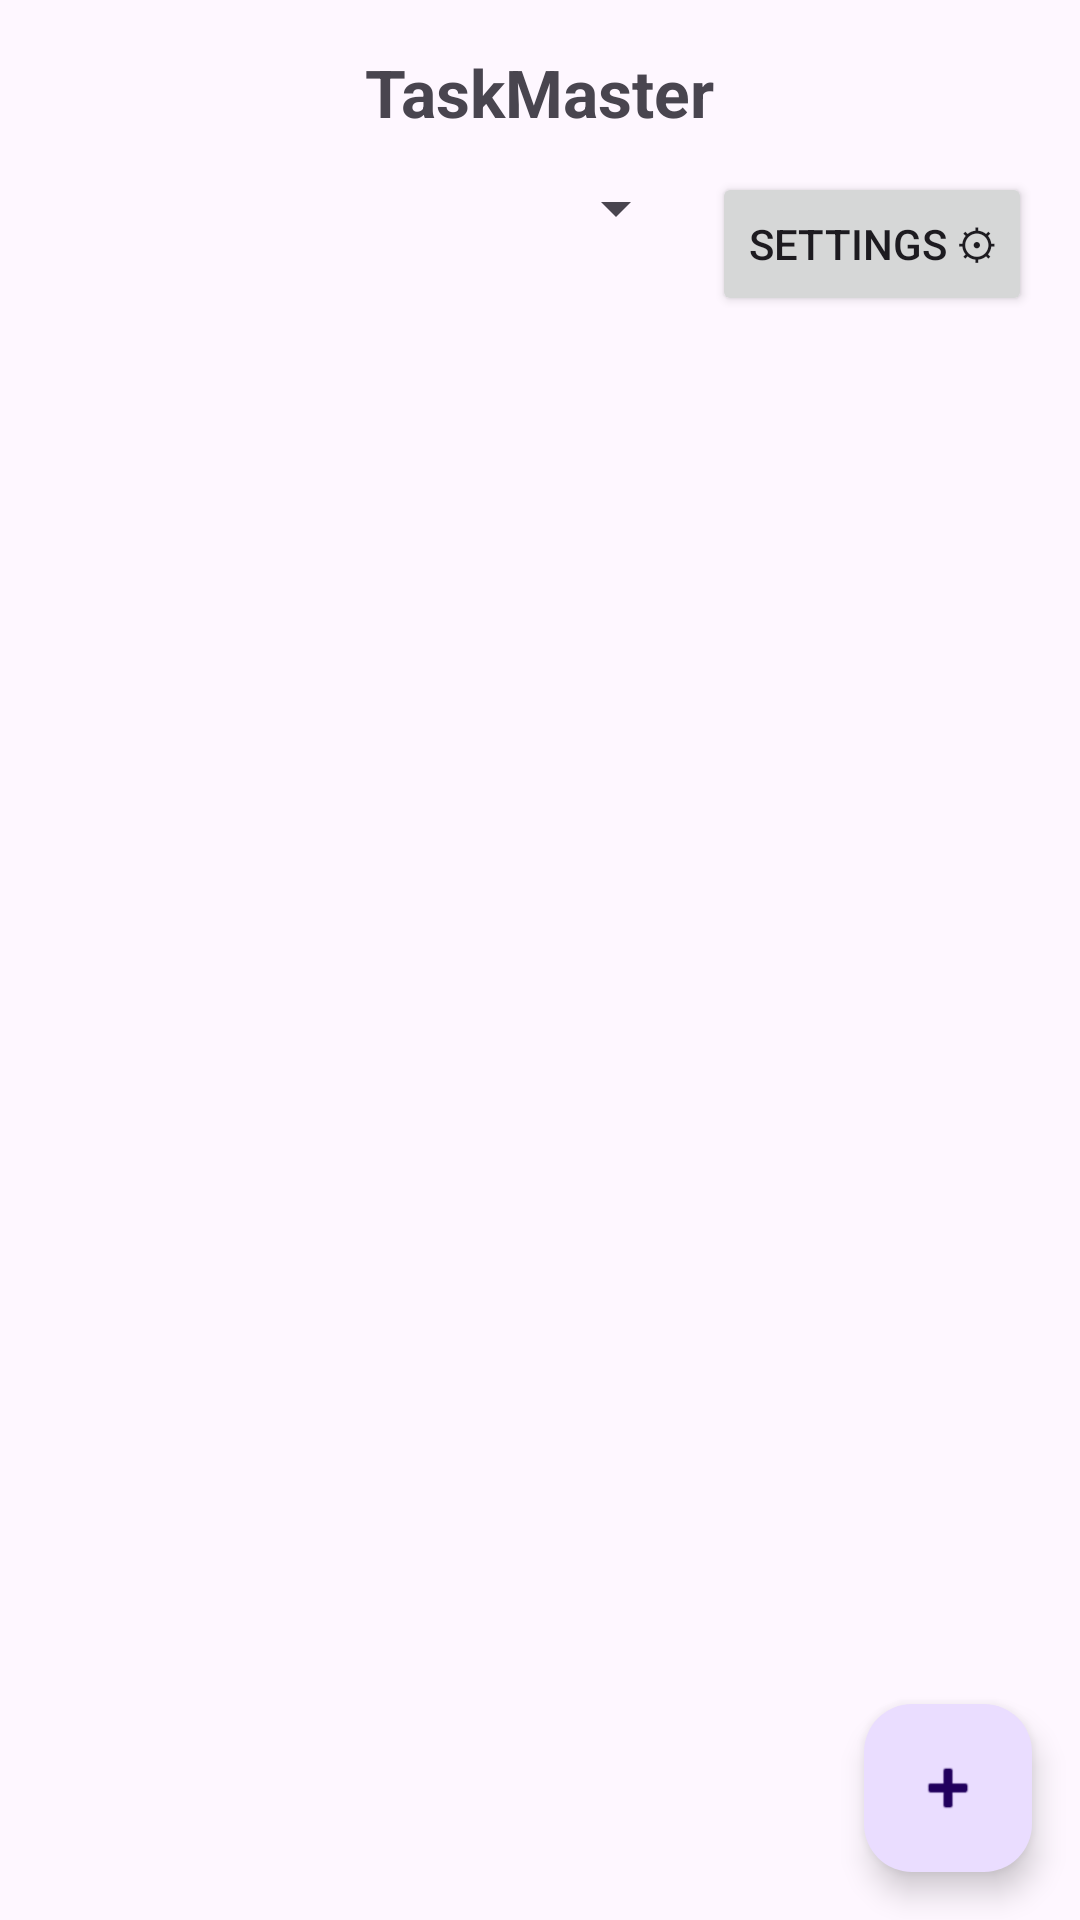

Icon click points for this 1080px×1920px phone screenshot, format (x,y):
Add Task: (948,1788)
